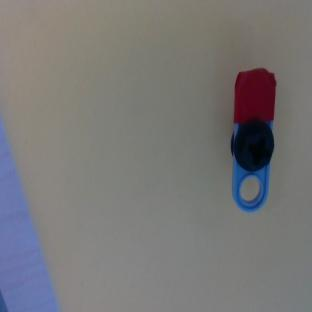part_1_good: (229, 67, 276, 212)
